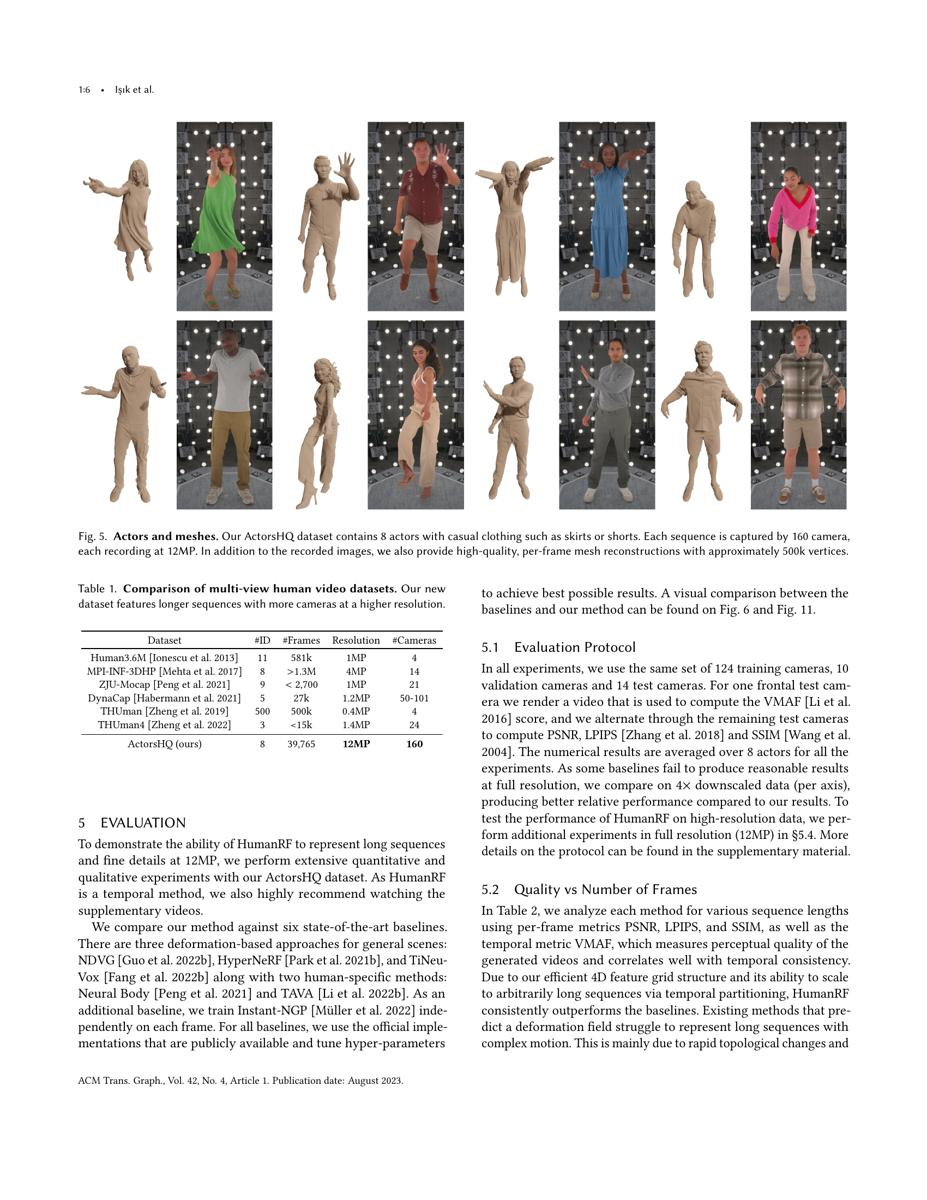figure: (75, 118, 852, 563)
table: (75, 578, 450, 755)
text: (475, 583, 855, 861), (73, 811, 451, 1055), (475, 879, 854, 1055)
